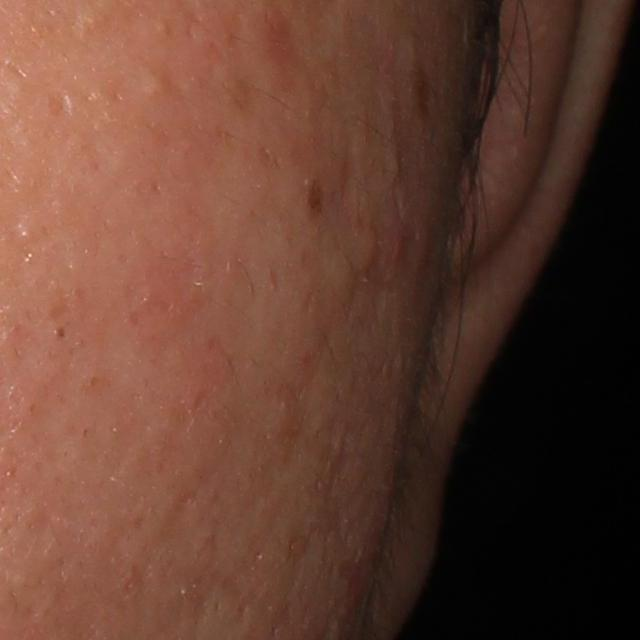atrophic_scar: (46, 90, 72, 120)
comedo: (15, 225, 37, 245)
nevus: (307, 181, 322, 217)
